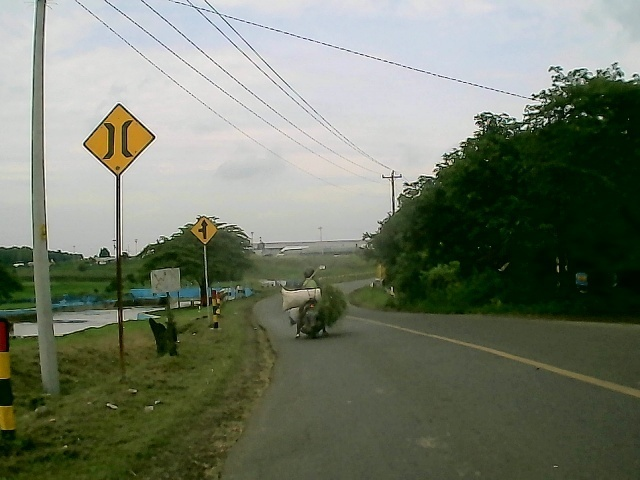Jembatan: (79, 101, 161, 179)
Simpang kiri dengan prioritas: (188, 214, 219, 246)
